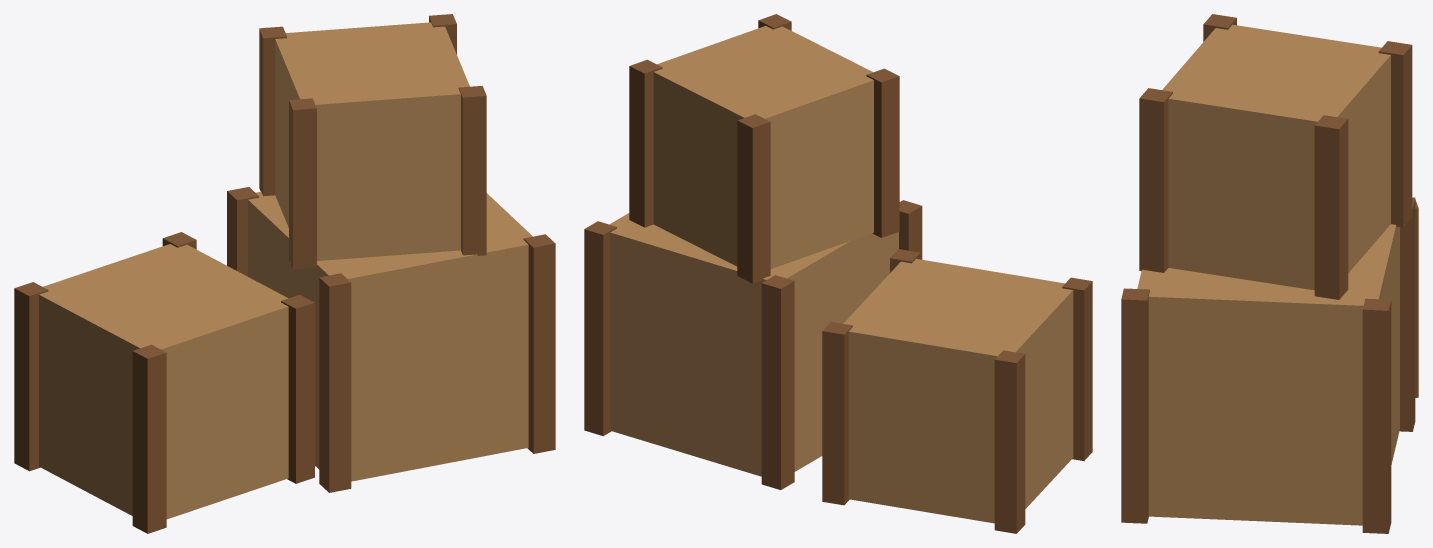
Rendered from Dorf_Kisten.fbx.
The picture shows the model from 3 angles, left to right: view 1: azimuth 30°, elevation 25°; view 2: azimuth 150°, elevation 25°; view 3: azimuth 270°, elevation 25°; orthographic projection. The views are drawn at different scales.
Parts seen in each view (by area): view 1: Dorf_Kisten; view 2: Dorf_Kisten; view 3: Dorf_Kisten.
Boxes of the visible parts, x1,y1,x2,y2 form: Dorf_Kisten: (14, 14, 555, 533); Dorf_Kisten: (584, 14, 1092, 533); Dorf_Kisten: (1121, 14, 1418, 533).
Bounding box in the file's own units: 1.48 × 1.16 × 0.797.
